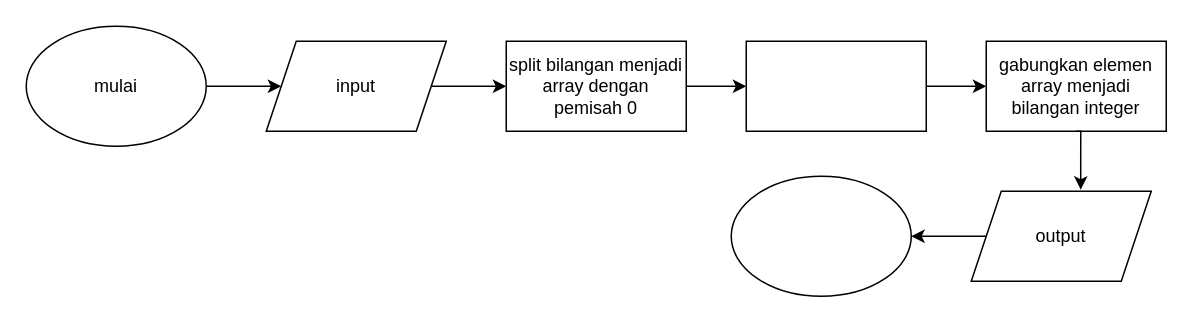
The diagram is 1193 pixels wide and 323 high, and some of its shapes have lost their labels. The centre of each missing label's shape, as x and y in pixels:
selesai: point 820,235
sort setiap bilangan array secara ascending: point 835,85
